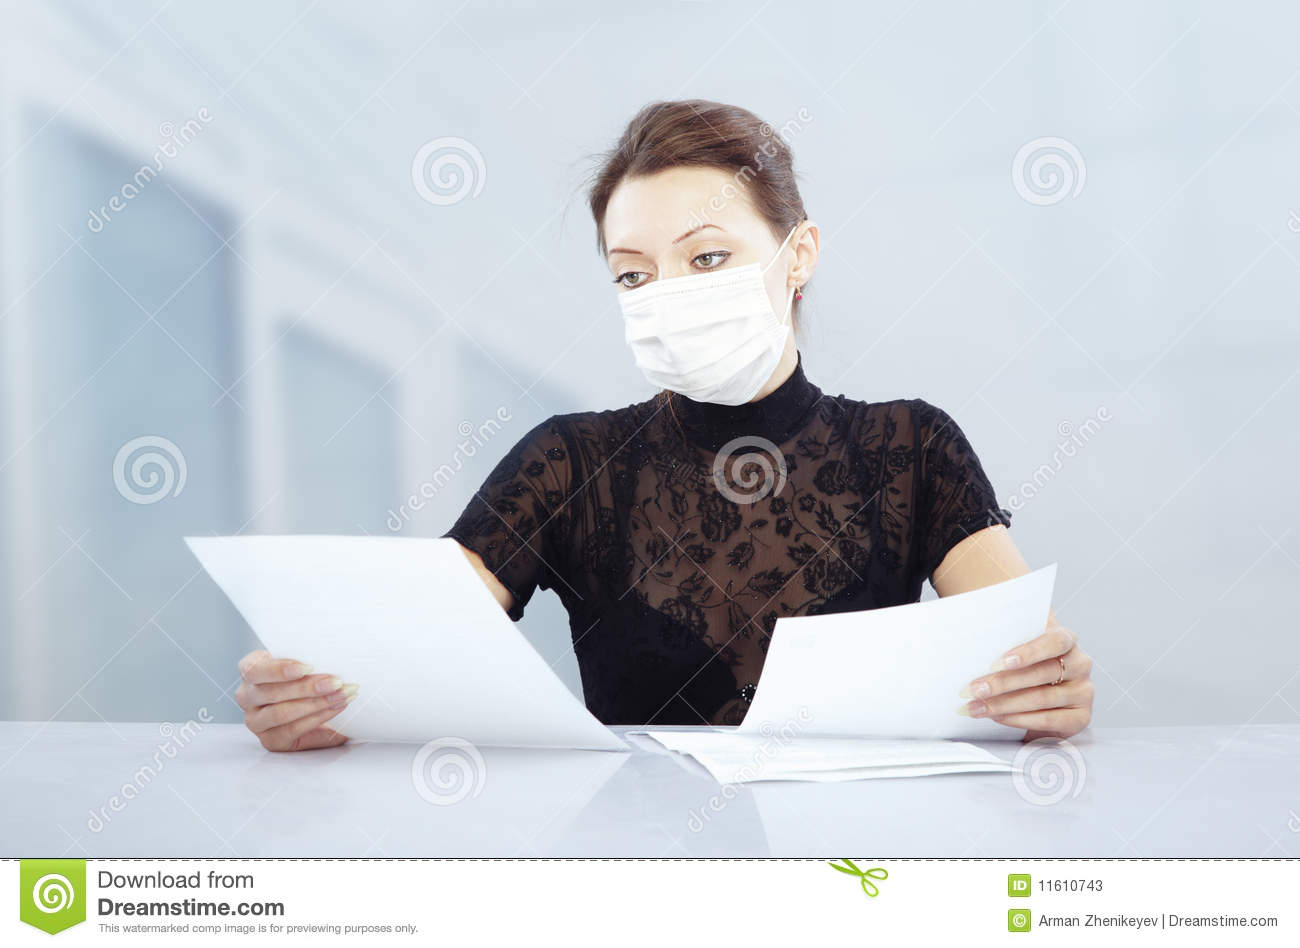mask: (618, 272, 785, 408)
